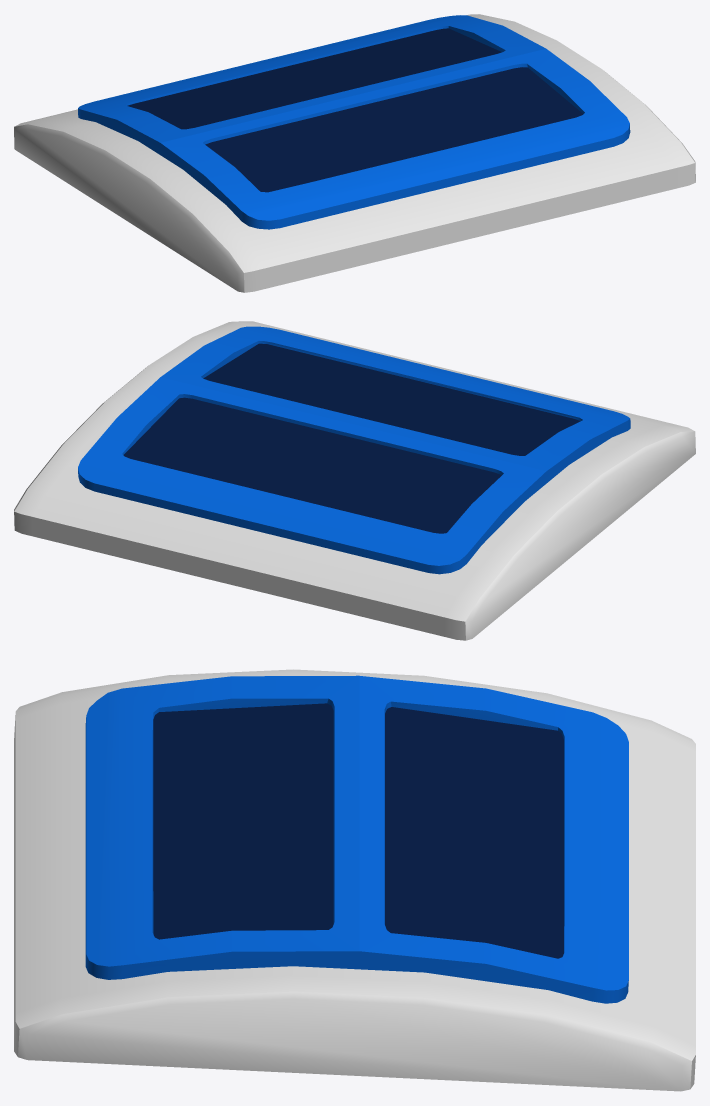
The model's file is yarg_fret.fbx.
3 renders of one model, top to bottom at view 1: azimuth 30°, elevation 25°; view 2: azimuth 150°, elevation 25°; view 3: azimuth 270°, elevation 25°, orthographic. The views are drawn at different scales.
Visible parts, largest first — view 1: Drum_4_Fret_1_Color.001, Drum_4_Fret_1_Base.001; view 2: Drum_4_Fret_1_Color.001, Drum_4_Fret_1_Base.001; view 3: Drum_4_Fret_1_Color.001, Drum_4_Fret_1_Base.001.
Part boxes in pixels (<box>): Drum_4_Fret_1_Color.001: <box>78,15,630,229</box>; Drum_4_Fret_1_Base.001: <box>14,14,695,292</box>; Drum_4_Fret_1_Color.001: <box>78,326,630,574</box>; Drum_4_Fret_1_Base.001: <box>14,321,695,640</box>; Drum_4_Fret_1_Color.001: <box>85,675,628,1003</box>; Drum_4_Fret_1_Base.001: <box>14,669,695,1091</box>.
Size of the model in its own units: 61.83 by 12.01 by 54.51.
